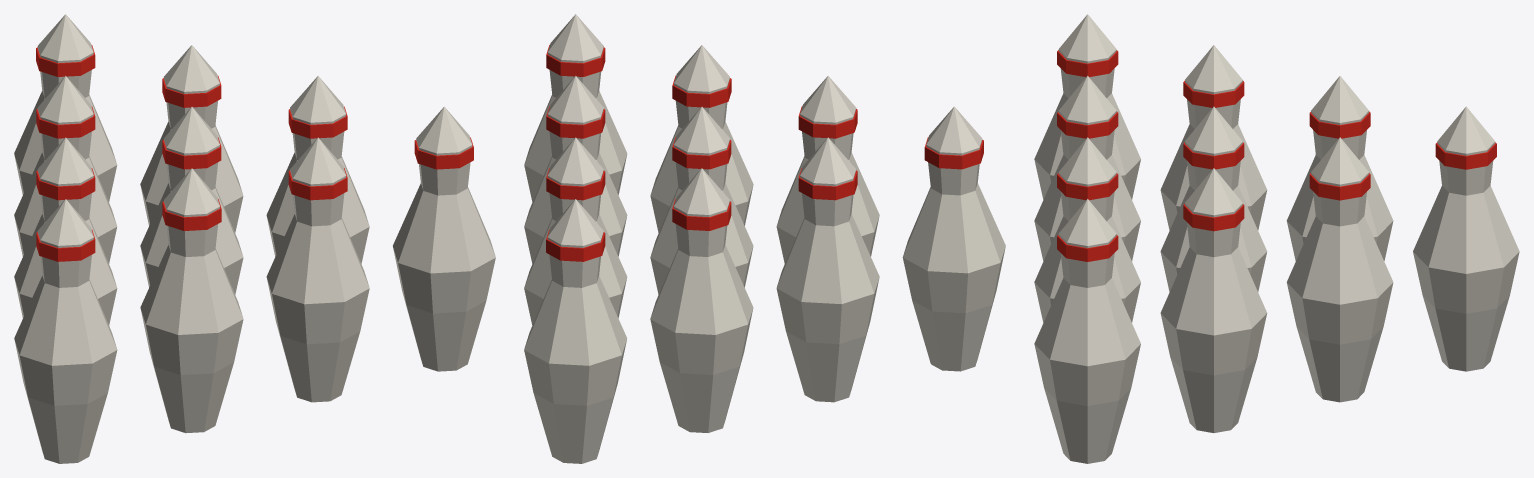
Rendered from pin_rack.glb.
3 views of the same model, side by side, from view 1: azimuth 30°, elevation 25°; view 2: azimuth 150°, elevation 25°; view 3: azimuth 270°, elevation 25° (orthographic).
Parts seen in each view (by area): view 1: pin_rack; view 2: pin_rack; view 3: pin_rack.
Part boxes in pixels (x1,y1,x2,y2): pin_rack: (14,14,495,463); pin_rack: (524,14,1005,463); pin_rack: (1034,14,1519,463).
Size of the model in its own units: 1.12 by 0.58 by 1.
